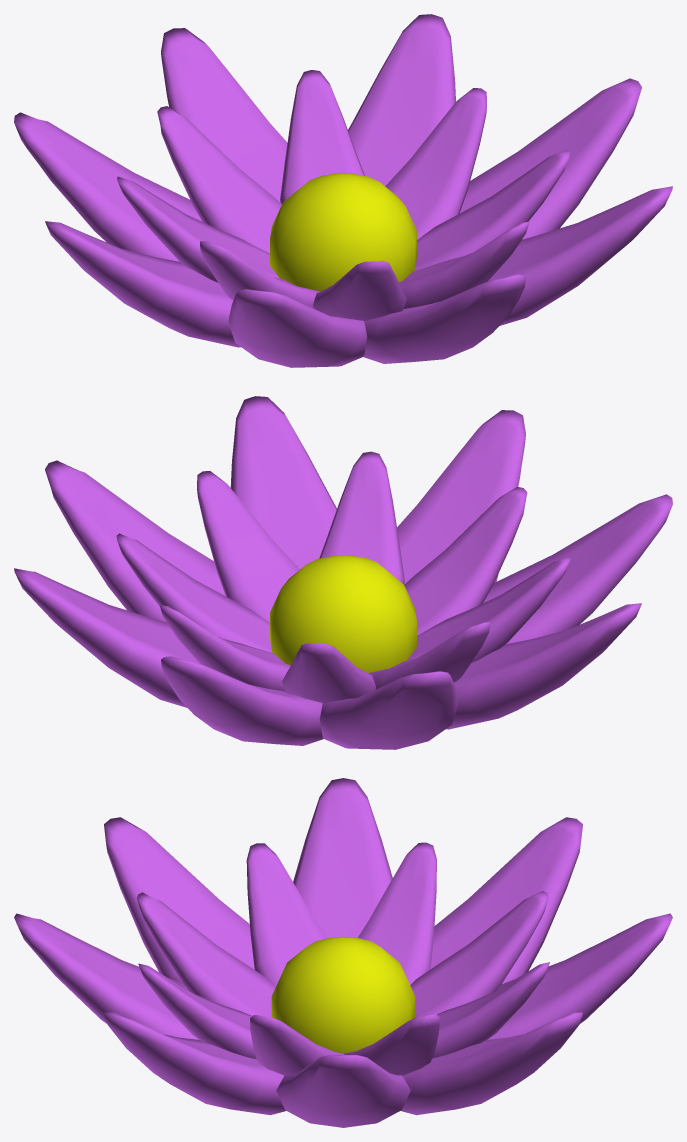
Rendered from Flor.fbx.
3 views of the same model, one above another, from view 1: azimuth 30°, elevation 25°; view 2: azimuth 150°, elevation 25°; view 3: azimuth 270°, elevation 25° (orthographic). The views are drawn at different scales.
Parts seen in each view (by area): view 1: Flor; view 2: Flor; view 3: Flor.
Part boxes in pixels (x1=…): Flor: x1=14, y1=14, x2=672, y2=367; Flor: x1=14, y1=396, x2=672, y2=749; Flor: x1=14, y1=778, x2=672, y2=1127.
Size of the model in its own units: 539 by 146 by 539.
